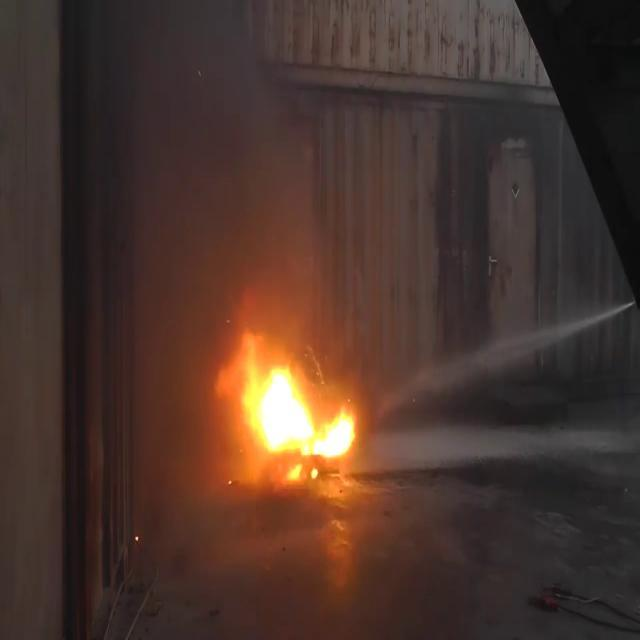Fire: (231, 336, 366, 472)
Smoke: (104, 0, 344, 320)
